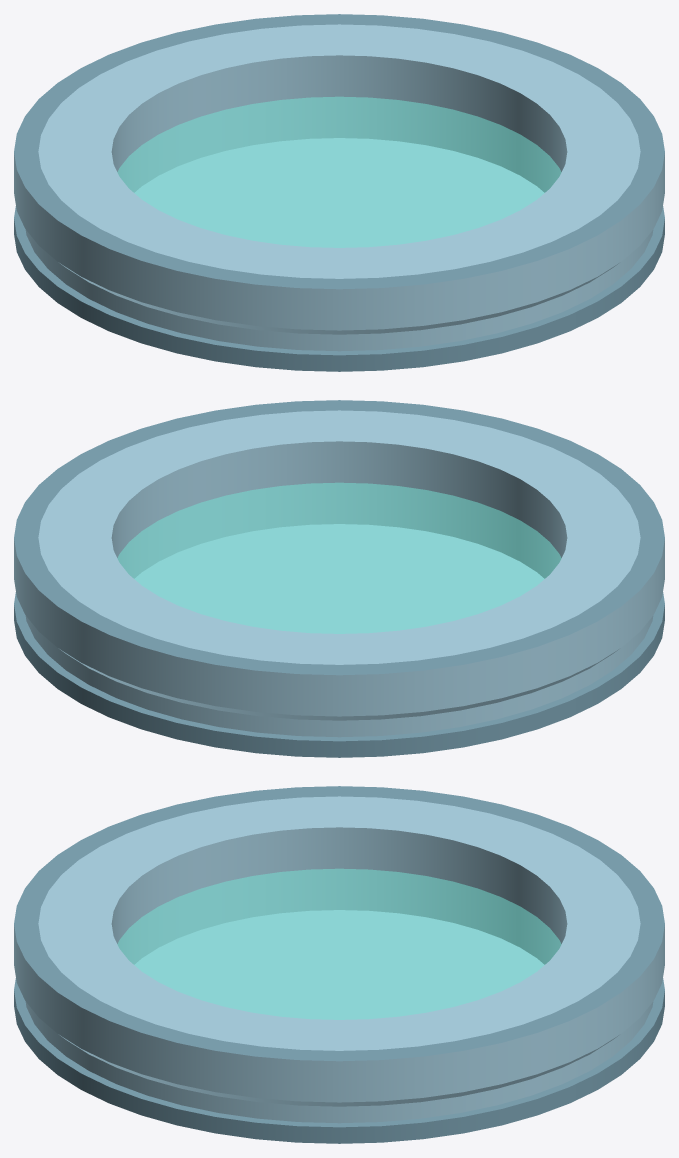
File: fountainRound.glb
The picture shows the model from 3 angles, top to bottom: view 1: azimuth 30°, elevation 25°; view 2: azimuth 150°, elevation 25°; view 3: azimuth 270°, elevation 25°; orthographic projection.
Parts seen in each view (by area): view 1: fountainRound; view 2: fountainRound; view 3: fountainRound.
Part boxes in pixels (x1=…): fountainRound: x1=14, y1=14, x2=664, y2=371; fountainRound: x1=14, y1=400, x2=664, y2=757; fountainRound: x1=14, y1=786, x2=664, y2=1143.
Size of the model in its own units: 6 by 0.84 by 6.
